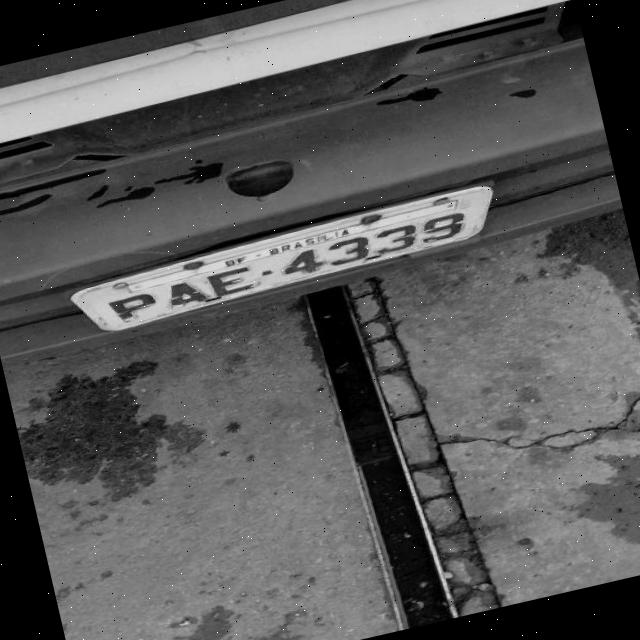placa_antiga: (70, 184, 492, 330)
